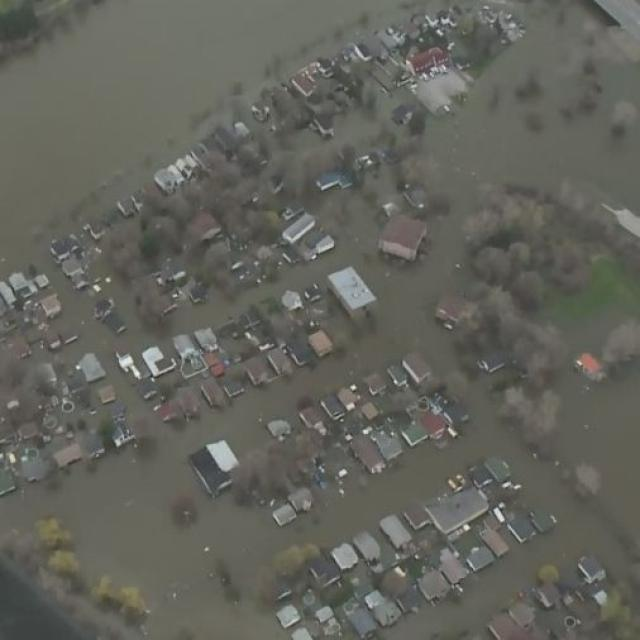flooded_areas: (17, 4, 607, 624)
